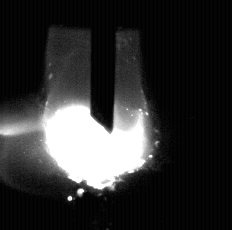arame: (91, 0, 115, 135)
poca: (44, 0, 147, 230)
